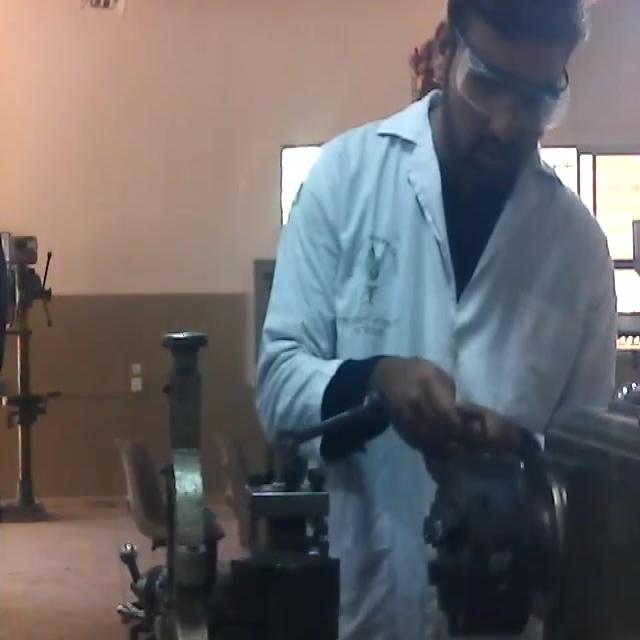googles: (455, 37, 573, 148)
labcoat: (250, 100, 620, 640)
